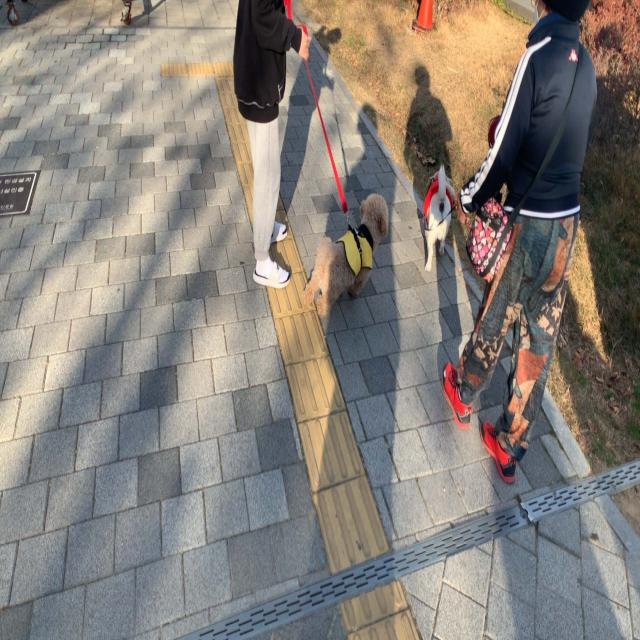Leashed_Dog: (258, 15, 391, 319), (420, 162, 532, 274)
